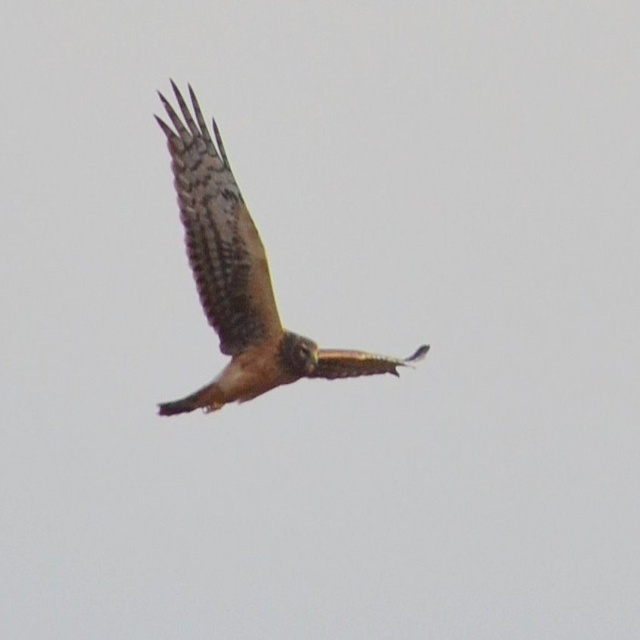Eagle: (152, 72, 435, 422)
